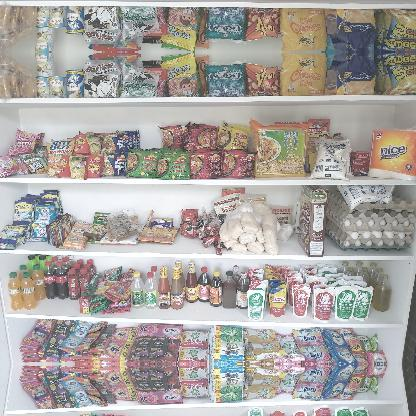Koko-Krunch: (297, 185, 329, 257)
